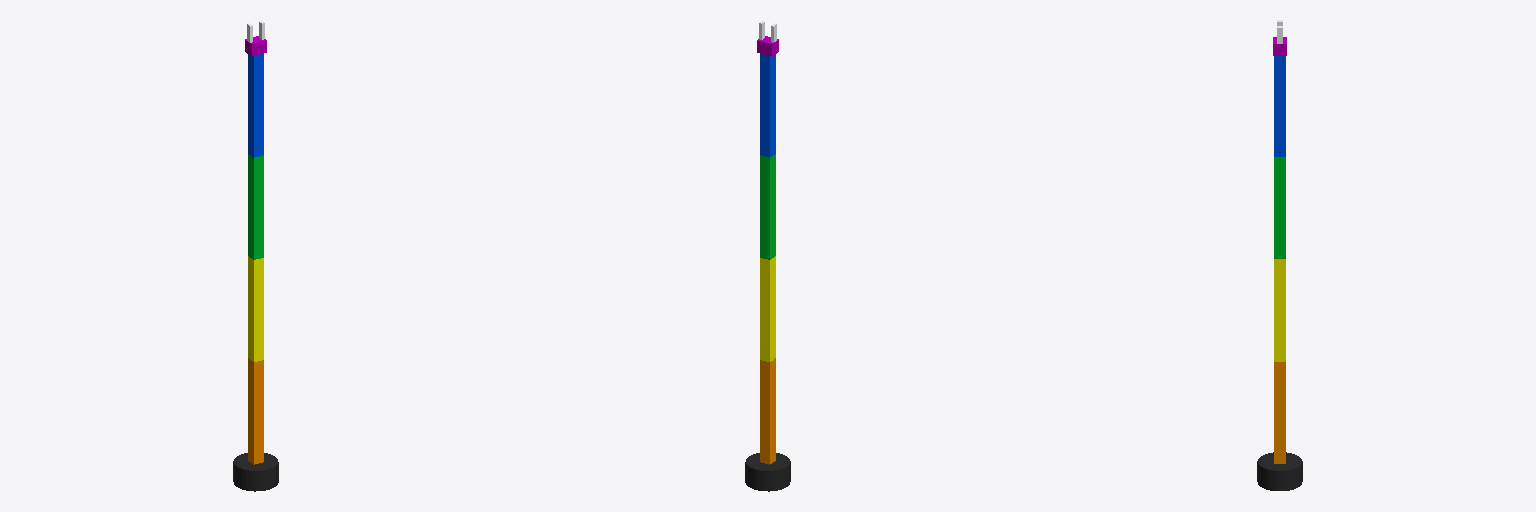
robot.urdf — my_robot:
<?xml version="1.0" ?>
<!-- =================================================================================== -->
<!-- |    This document was autogenerated by xacro from my_robot.urdf.xacro            | -->
<!-- |    EDITING THIS FILE BY HAND IS NOT RECOMMENDED                                 | -->
<!-- =================================================================================== -->
<robot name="my_robot">
  <link name="world"/>
  
  <joint name="virtual_joint" type="fixed">
    <parent link="world"/>
    <child link="base_link"/>
    <origin xyz="0 0 0" rpy="0 0 0"/>
  </joint>
  <link name="base_link">
    <visual>
      <geometry>
        <cylinder length="0.1" radius="0.1"/>
      </geometry>
      <origin rpy="0 0 0" xyz="0 0 0.05"/>
      <material name="gray">
        <color rgba="0.2 0.2 0.2 1"/>
      </material>
    </visual>
    <collision>
      <geometry>
        <cylinder length="0.1" radius="0.1"/>
      </geometry>
      <origin rpy="0 0 0" xyz="0 0 0.05"/>
    </collision>
    <inertial>
      <mass value="10.0"/>
      <inertia ixx="0.03333333333333334" ixy="0.0" ixz="0.0" iyy="0.03333333333333334" iyz="0.0" izz="0.05000000000000001"/>
    </inertial>
  </link>
  <link name="link1">
    <visual>
      <geometry>
        <box size="0.05 0.05 0.5"/>
      </geometry>
      <origin rpy="0 0 0" xyz="0 0 0.25"/>
      <material name="orange">
        <color rgba="1 0.6 0 1"/>
      </material>
    </visual>
    <collision>
      <geometry>
        <box size="0.05 0.05 0.5"/>
      </geometry>
      <origin rpy="0 0 0" xyz="0 0 0.25"/>
    </collision>
    <inertial>
      <mass value="1.0"/>
      <inertia ixx="0.021041666666666667" ixy="0.0" ixz="0.0" iyy="0.00041666666666666675" iyz="0.0" izz="0.021041666666666667"/>
    </inertial>
  </link>
  <joint name="joint1" type="revolute">
    <parent link="base_link"/>
    <child link="link1"/>
    <origin rpy="0 0 0" xyz="0 0 0.1"/>
    <axis xyz="0 0 1"/>
    <limit effort="100" lower="-3.14159" upper="3.14159" velocity="1.0"/>
  </joint>
  <link name="link2">
    <visual>
      <geometry>
        <box size="0.05 0.05 0.5"/>
      </geometry>
      <origin rpy="0 0 0" xyz="0 0 0.25"/>
      <material name="yellow">
        <color rgba="1 1 0 1"/>
      </material>
    </visual>
    <collision>
      <geometry>
        <box size="0.05 0.05 0.5"/>
      </geometry>
      <origin rpy="0 0 0" xyz="0 0 0.25"/>
    </collision>
    <inertial>
      <mass value="1.0"/>
      <inertia ixx="0.021041666666666667" ixy="0.0" ixz="0.0" iyy="0.00041666666666666675" iyz="0.0" izz="0.021041666666666667"/>
    </inertial>
  </link>
  <joint name="joint2" type="revolute">
    <parent link="link1"/>
    <child link="link2"/>
    <origin rpy="0 0 0" xyz="0 0 0.5"/>
    <axis xyz="0 1 0"/>
    <limit effort="100" lower="-1.57079" upper="1.57079" velocity="1.0"/>
  </joint>
  <link name="link3">
    <visual>
      <geometry>
        <box size="0.05 0.05 0.5"/>
      </geometry>
      <origin rpy="0 0 0" xyz="0 0 0.25"/>
      <material name="green">
        <color rgba="0 0.8 0.2 1"/>
      </material>
    </visual>
    <collision>
      <geometry>
        <box size="0.05 0.05 0.5"/>
      </geometry>
      <origin rpy="0 0 0" xyz="0 0 0.25"/>
    </collision>
    <inertial>
      <mass value="1.0"/>
      <inertia ixx="0.021041666666666667" ixy="0.0" ixz="0.0" iyy="0.00041666666666666675" iyz="0.0" izz="0.021041666666666667"/>
    </inertial>
  </link>
  <joint name="joint3" type="revolute">
    <parent link="link2"/>
    <child link="link3"/>
    <origin rpy="0 0 0" xyz="0 0 0.5"/>
    <axis xyz="0 1 0"/>
    <limit effort="100" lower="-2.0944" upper="2.0944" velocity="1.5"/>
  </joint>
  <link name="link4">
    <visual>
      <geometry>
        <box size="0.05 0.05 0.5"/>
      </geometry>
      <origin rpy="0 0 0" xyz="0 0 0.25"/>
      <material name="blue">
        <color rgba="0 0.4 1 1"/>
      </material>
    </visual>
    <collision>
      <geometry>
        <box size="0.05 0.05 0.5"/>
      </geometry>
      <origin rpy="0 0 0" xyz="0 0 0.25"/>
    </collision>
    <inertial>
      <mass value="1.0"/>
      <inertia ixx="0.021041666666666667" ixy="0.0" ixz="0.0" iyy="0.00041666666666666675" iyz="0.0" izz="0.021041666666666667"/>
    </inertial>
  </link>
  <joint name="joint4" type="revolute">
    <parent link="link3"/>
    <child link="link4"/>
    <origin rpy="0 0 0" xyz="0 0 0.5"/>
    <axis xyz="0 0 1"/>
    <limit effort="100" lower="-3.14159" upper="3.14159" velocity="2.0"/>
  </joint>
  <link name="link_wrist">
    <visual>
      <geometry>
        <box size="0.08 0.06 0.06"/>
      </geometry>
      <origin rpy="0 0 0" xyz="0 0 0.03"/>
      <material name="magenta">
        <color rgba="0.8 0 0.8 1"/>
      </material>
    </visual>
    <collision>
      <geometry>
        <box size="0.08 0.06 0.06"/>
      </geometry>
      <origin rpy="0 0 0" xyz="0 0 0.03"/>
    </collision>
    <inertial>
      <mass value="0.3"/>
      <inertia ixx="0.00017999999999999998" ixy="0.0" ixz="0.0" iyy="0.00025" iyz="0.0" izz="0.00025"/>
    </inertial>
  </link>
  <joint name="joint_wrist" type="revolute">
    <parent link="link4"/>
    <child link="link_wrist"/>
    <origin rpy="0 0 0" xyz="0 0 0.5"/>
    <axis xyz="0 1 0"/>
    <limit effort="50" lower="-1.5708" upper="1.5708" velocity="2.5"/>
  </joint>
  <link name="finger1">
    <visual>
      <geometry>
        <box size="0.015 0.03 0.08"/>
      </geometry>
      <origin rpy="0 0 0" xyz="0 0 0.04"/>
      <material name="white">
        <color rgba="1 1 1 1"/>
      </material>
    </visual>
    <collision>
      <geometry>
        <box size="0.015 0.03 0.08"/>
      </geometry>
      <origin rpy="0 0 0" xyz="0 0 0.04"/>
    </collision>
    <inertial>
      <mass value="0.05"/>
      <inertia ixx="3.0416666666666666e-05" ixy="0.0" ixz="0.0" iyy="2.760416666666667e-05" iyz="0.0" izz="4.6875e-06"/>
    </inertial>
  </link>
  <joint name="joint_finger1" type="prismatic">
    <parent link="link_wrist"/>
    <child link="finger1"/>
    <origin rpy="0 0 0" xyz="-0.03 0 0.06"/>
    <axis xyz="1 0 0"/>
    <limit effort="20" lower="0.0" upper="0.025" velocity="0.2"/>
  </joint>
  <link name="finger2">
    <visual>
      <geometry>
        <box size="0.015 0.03 0.08"/>
      </geometry>
      <origin rpy="0 0 0" xyz="0 0 0.04"/>
      <material name="white"/>
    </visual>
    <collision>
      <geometry>
        <box size="0.015 0.03 0.08"/>
      </geometry>
      <origin rpy="0 0 0" xyz="0 0 0.04"/>
    </collision>
    <inertial>
      <mass value="0.05"/>
      <inertia ixx="3.0416666666666666e-05" ixy="0.0" ixz="0.0" iyy="2.760416666666667e-05" iyz="0.0" izz="4.6875e-06"/>
    </inertial>
  </link>
  <joint name="joint_finger2" type="prismatic">
    <parent link="link_wrist"/>
    <child link="finger2"/>
    <origin rpy="0 0 0" xyz="0.03 0 0.06"/>
    <axis xyz="-1 0 0"/>
    <limit effort="20" lower="0.0" upper="0.025" velocity="0.2"/>
  </joint>
  <!-- ROS2 Control을 위한 시스템 정의 -->
  <!-- <ros2_control name="GazeboSimSystem" type="system">
    <hardware>
      <plugin>gz_ros2_control/GazeboSimSystem</plugin>
    </hardware>
    <joint name="joint1">
      <command_interface name="position">
        <param name="min">-3.14159</param>
        <param name="max">3.14159</param>
      </command_interface>
      <state_interface name="position"/>
      <state_interface name="velocity"/>
    </joint>
    <joint name="joint2">
      <command_interface name="position">
        <param name="min">-1.57079</param>
        <param name="max">1.57079</param>
      </command_interface>
      <state_interface name="position"/>
      <state_interface name="velocity"/>
    </joint>
    <joint name="joint3">
      <command_interface name="position">
        <param name="min">-2.0944</param>
        <param name="max">2.0944</param>
      </command_interface>
      <state_interface name="position"/>
      <state_interface name="velocity"/>
    </joint>
    <joint name="joint4">
      <command_interface name="position">
        <param name="min">-3.14159</param>
        <param name="max">3.14159</param>
      </command_interface>
      <state_interface name="position"/>
      <state_interface name="velocity"/>
    </joint>
  </ros2_control> -->
  <!-- <gazebo>
    <plugin filename="gz_ros2_control-system" name="gz_ros2_control::GazeboSimROS2ControlPlugin">
      <parameters>$(find my_robot_description)/config/ros2_controllers.yaml</parameters>
    </plugin>
  </gazebo> -->
</robot>

--- Render facts (derived) ---
The picture shows the robot from 3 angles, left to right: view 1: azimuth 30°, elevation 25°; view 2: azimuth 150°, elevation 25°; view 3: azimuth 270°, elevation 25°; orthographic projection.
Model my_robot with 9 links and 8 joints (5 revolute, 2 prismatic, 1 fixed), rooted at world, posed all joints at 0.
Visible links, largest first — view 1: link1, link3, link2, link4, base_link; view 2: link1, link3, link2, link4, base_link; view 3: base_link, link2, link1, link3, link4.
Boxes of the visible links, x1,y1,x2,y2 form: link1: (248, 358, 263, 464); link3: (248, 154, 263, 259); link2: (248, 256, 263, 361); link4: (248, 54, 263, 157); base_link: (233, 453, 278, 491); link1: (760, 358, 775, 464); link3: (760, 154, 775, 259); link2: (760, 256, 775, 361); link4: (760, 54, 775, 157); base_link: (745, 453, 790, 491); base_link: (1257, 452, 1302, 490); link2: (1274, 259, 1285, 361); link1: (1274, 362, 1285, 463); link3: (1274, 157, 1285, 258); link4: (1274, 56, 1285, 156).
Size in the robot's own frame: 0.2 by 0.2 by 2.24 metres.
Geometry: primitives only (box / cylinder / sphere), no mesh files.
